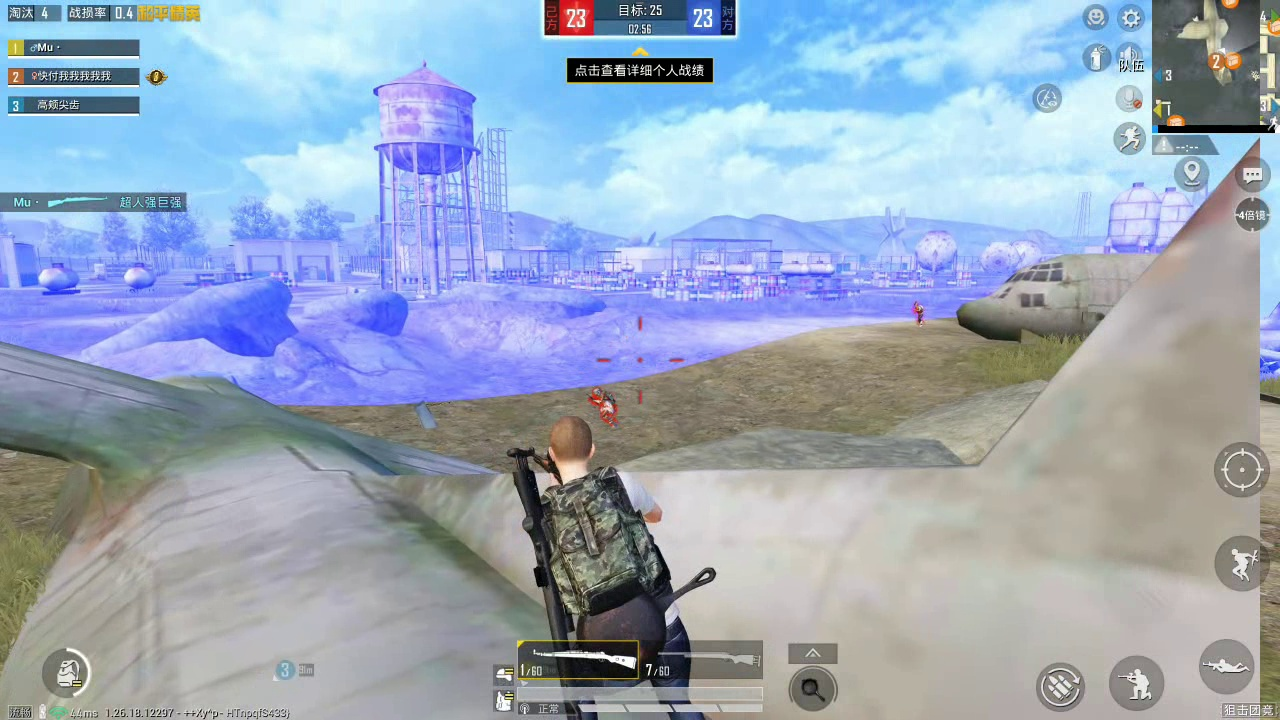enemy: (592, 386, 621, 421), (910, 300, 926, 325)
